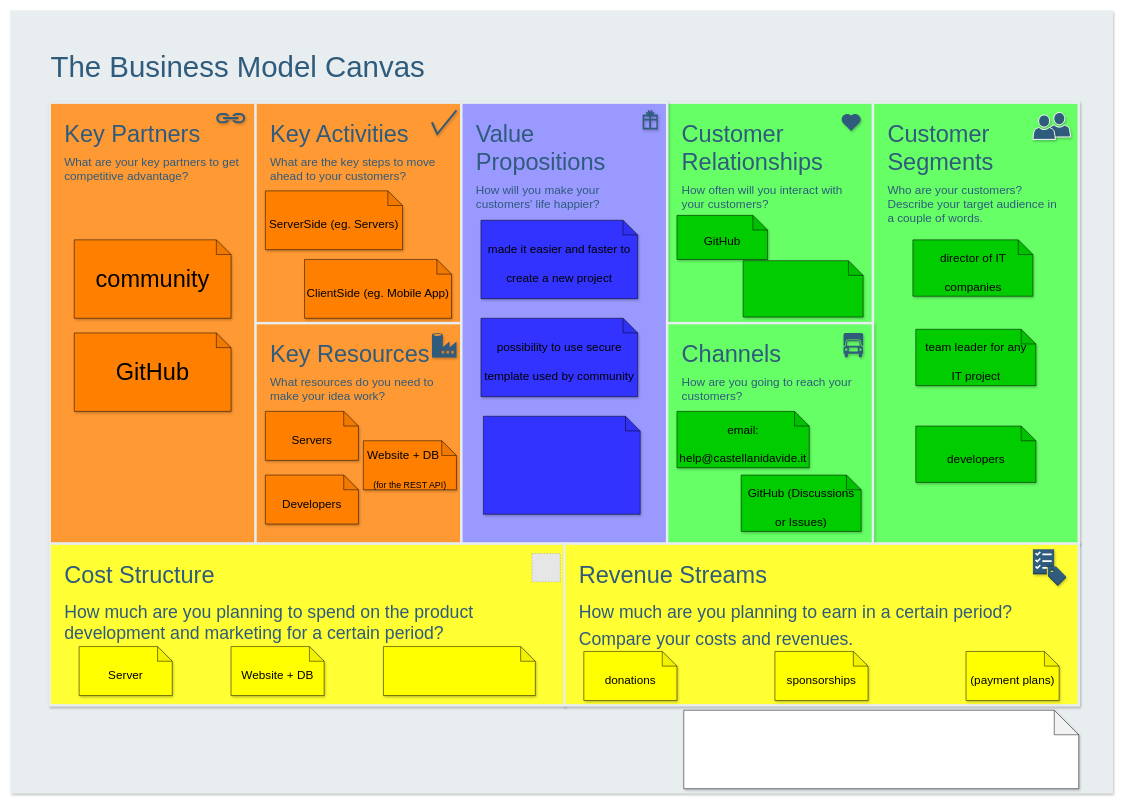
Image size: 1124x805. Some labels were removed from this diagram. Grey dashed boxes stand in for pictures. Each missing label, with the centre of its shape:
"App (Mobile/ Desktop)" belongs at [803,289].
"By Castellani Davide (@DavideC03)" belongs at [881,750].
"other (e.g. Google Play Developer Account)" belongs at [459,671].
"possibility to create your own template costumized on your necessities" belongs at [562,466].
